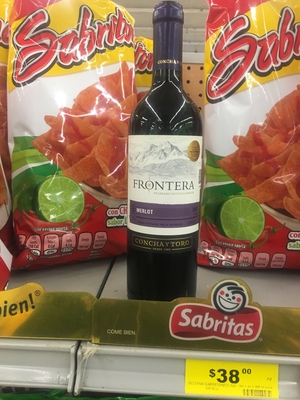frontera merlot: (113, 13, 214, 309)
